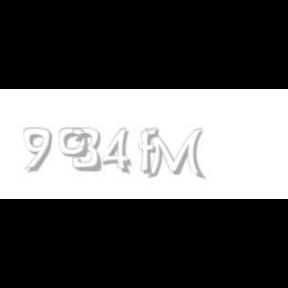3: (73, 128, 104, 172)
4: (101, 128, 132, 174)
9: (24, 128, 53, 172)
M: (144, 128, 204, 180)
f: (139, 128, 163, 174)
o: (58, 128, 88, 158)
